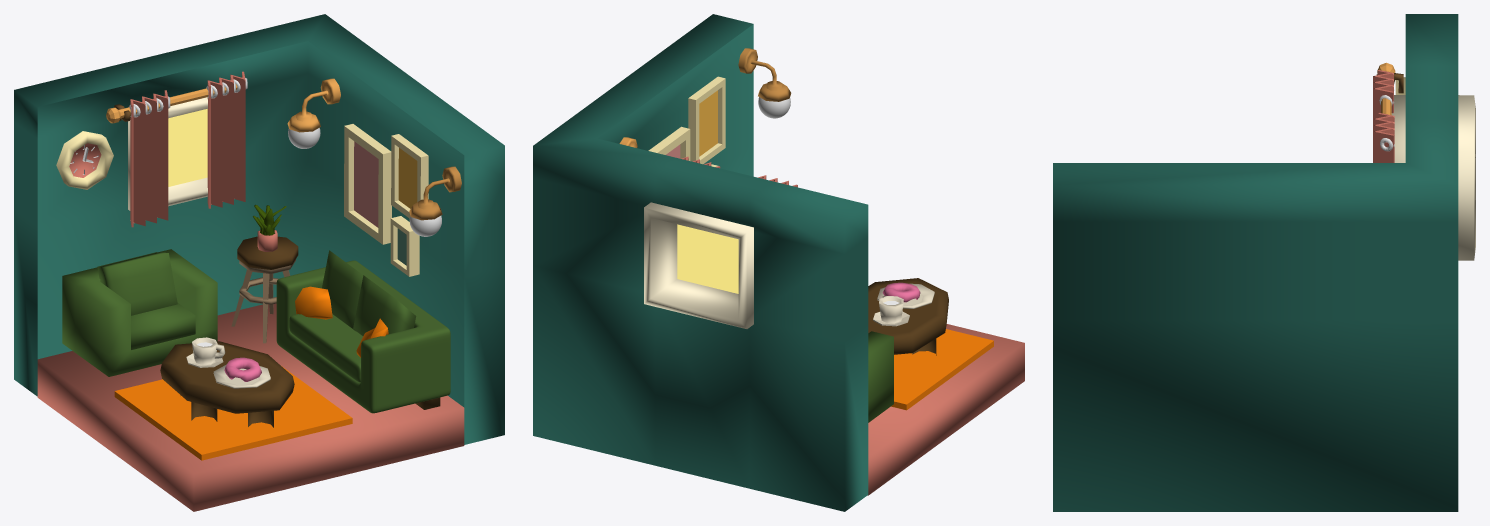
File: island.glb
The picture shows the model from 3 angles, left to right: view 1: azimuth 30°, elevation 25°; view 2: azimuth 150°, elevation 25°; view 3: azimuth 270°, elevation 25°; orthographic projection. The views are drawn at different scales.
Parts seen in each view (by area): view 1: wall, floor, couch, couch2, rug, table, curtain, curtain.001, frame1, cushion 2.001, Plane, clock (+13 smaller); view 2: wall, floor, windowsill, rug, Plane, table, frame2, couch2, lamp.001, frame1, cup; view 3: wall, windowsill, curtain.001, curtain.
Boxes of the visible parts, x1,y1,x2,y2 form: wall: (14, 14, 504, 444); floor: (37, 303, 464, 511); couch: (276, 260, 450, 413); couch2: (62, 249, 217, 376); rug: (114, 366, 352, 460); table: (160, 341, 294, 427); curtain: (130, 90, 168, 227); curtain.001: (207, 71, 245, 208); frame1: (344, 124, 391, 244); cushion 2.001: (97, 252, 177, 315); Plane: (168, 109, 207, 186); clock: (56, 131, 113, 189); wall: (533, 14, 868, 511); floor: (867, 324, 1024, 495); windowsill: (644, 202, 753, 328); rug: (891, 329, 993, 410); Plane: (677, 224, 738, 293); table: (868, 278, 948, 355); frame2: (688, 76, 725, 164); couch2: (868, 331, 893, 422); lamp.001: (738, 48, 791, 101); frame1: (648, 126, 690, 160); cup: (879, 296, 903, 323); wall: (1053, 14, 1458, 511); windowsill: (1391, 95, 1475, 260); curtain.001: (1373, 112, 1394, 162); curtain: (1373, 70, 1393, 162).
Size of the model in its own units: 3.51 by 3.13 by 3.66.
